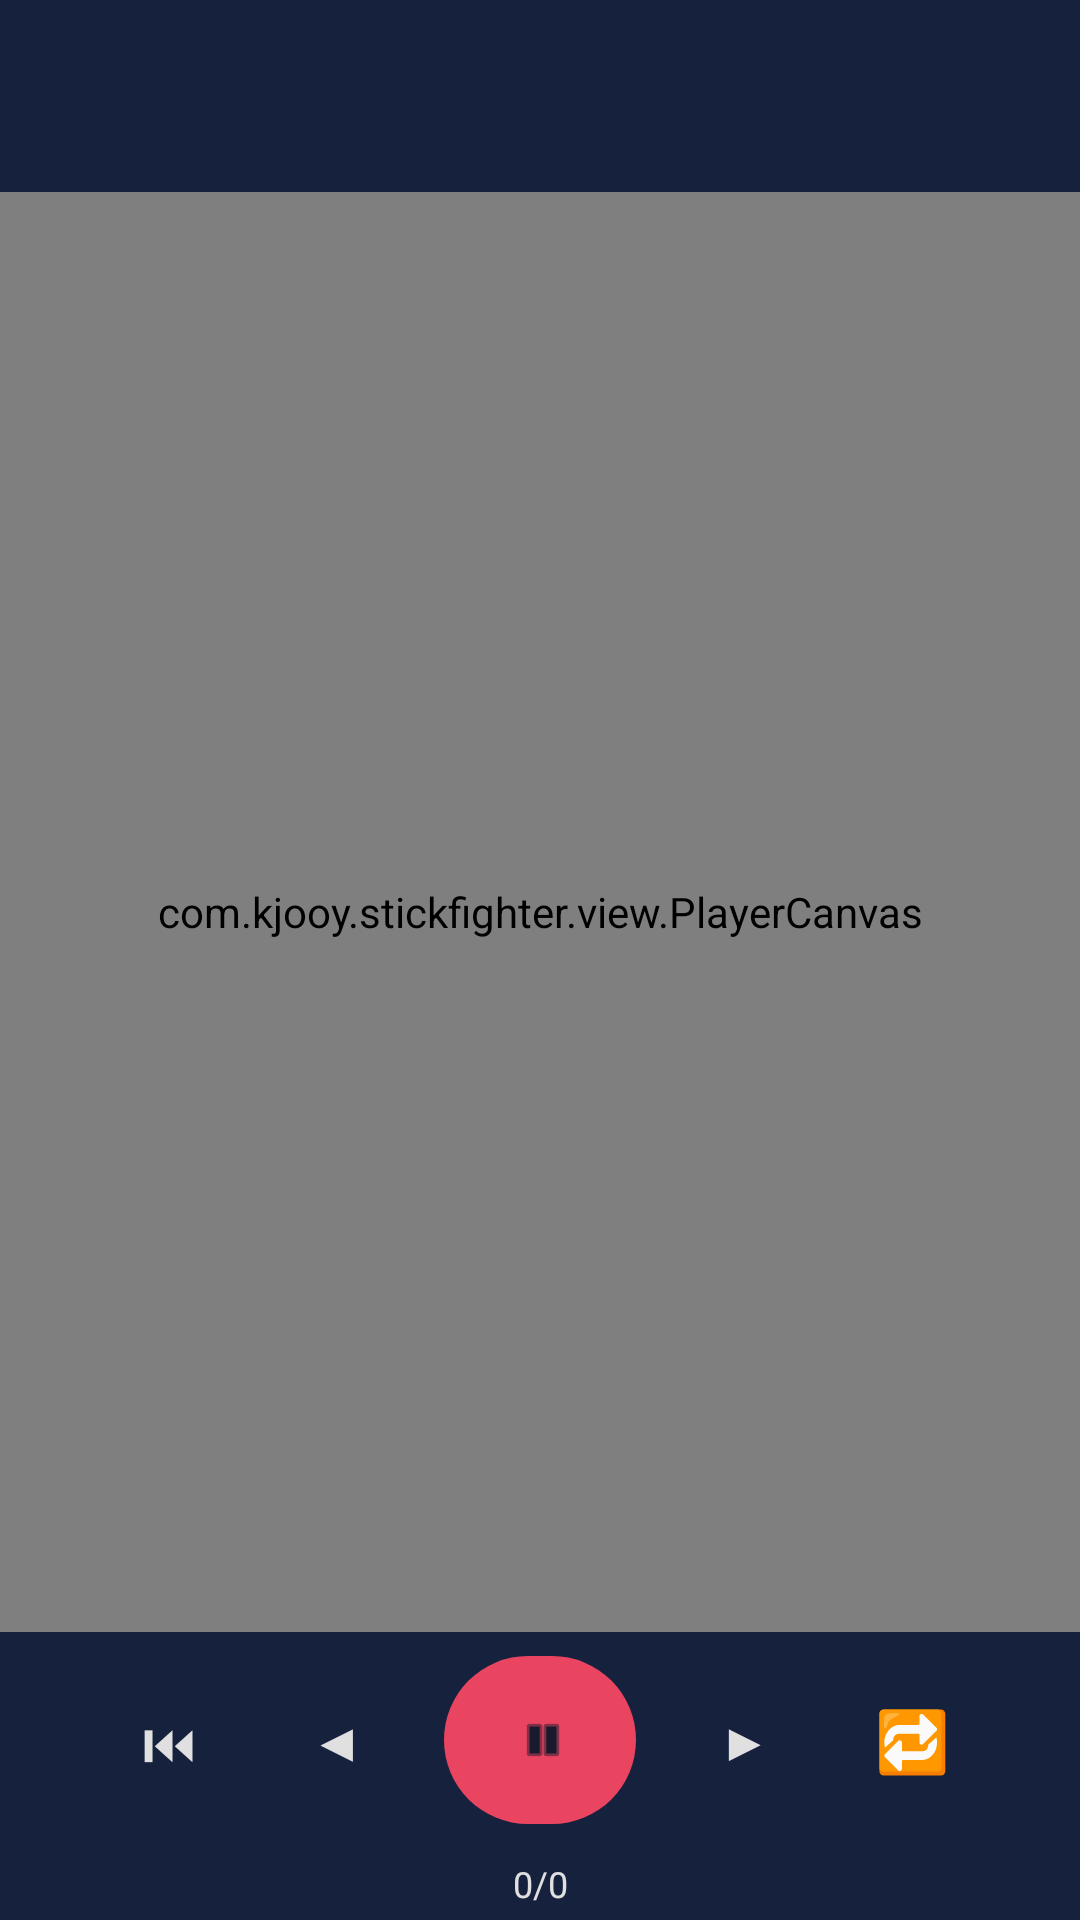

Locate icon controls on the screen. Image size 1080px x 1920px, boxes as region(x1, y1, x2, y2).
pause: region(444, 1656, 636, 1824)
